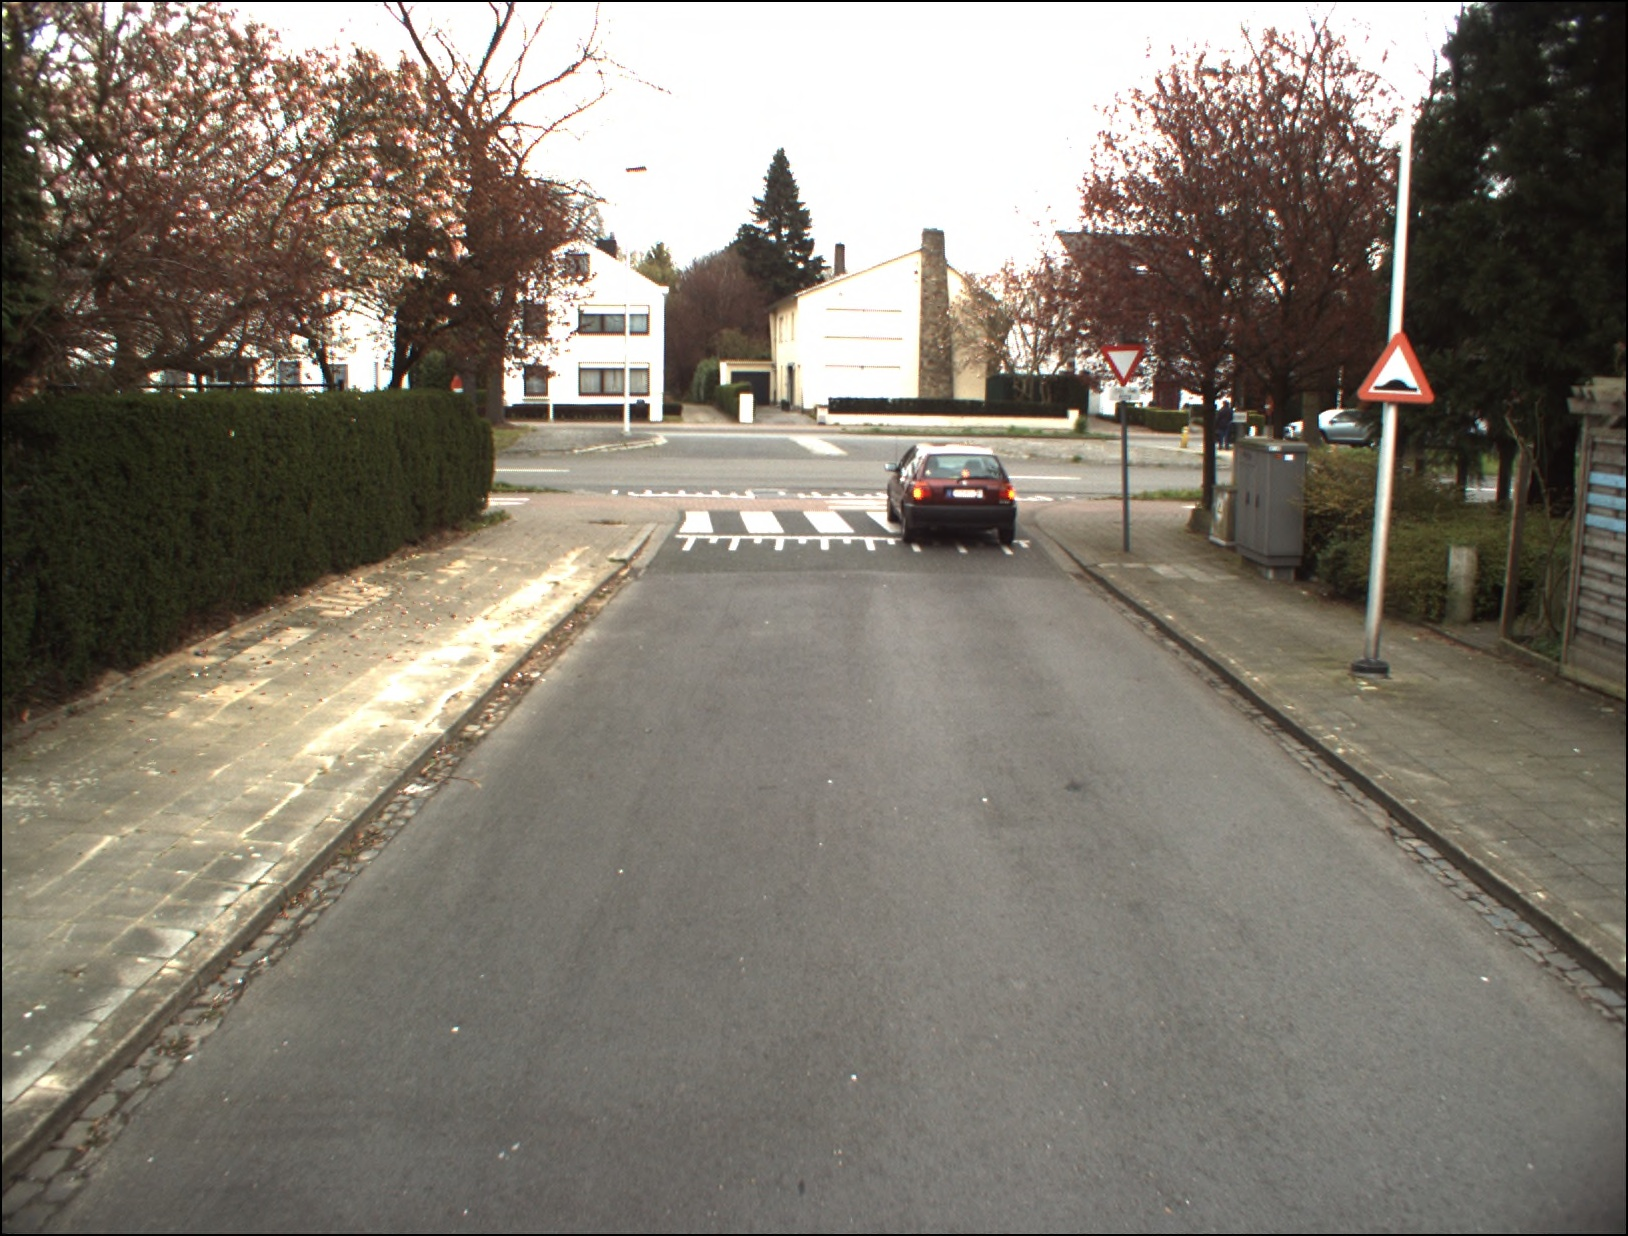giveway: (1102, 345, 1149, 388)
speedbump: (1354, 332, 1440, 404)
